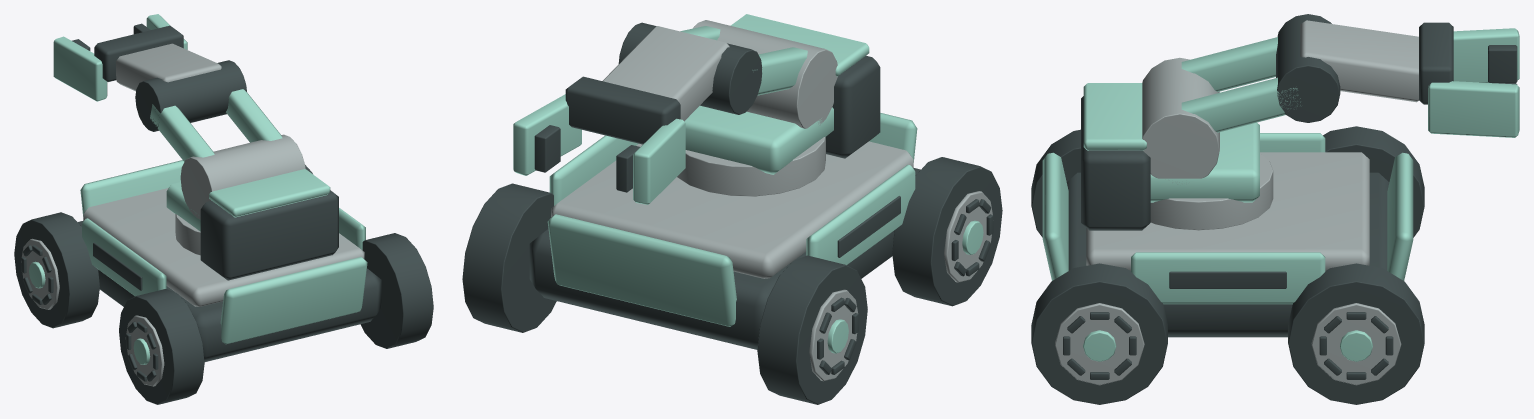
File: engineer-neutral.glb
3 views of the same model, side by side, from view 1: azimuth 30°, elevation 25°; view 2: azimuth 150°, elevation 25°; view 3: azimuth 270°, elevation 25° (orthographic). The views are drawn at different scales.
Parts seen in each view (by area): view 1: engineer-chassis, engineer-armor, engineer-mechanics; view 2: engineer-chassis, engineer-mechanics, engineer-armor; view 3: engineer-chassis, engineer-mechanics, engineer-armor.
Part boxes in pixels (bbox=[...]): engineer-chassis: bbox=[14, 23, 433, 404]; engineer-armor: bbox=[29, 14, 367, 364]; engineer-mechanics: bbox=[21, 43, 364, 386]; engineer-chassis: bbox=[462, 22, 1002, 404]; engineer-mechanics: bbox=[551, 20, 992, 381]; engineer-armor: bbox=[513, 14, 983, 353]; engineer-chassis: bbox=[1031, 14, 1517, 404]; engineer-mechanics: bbox=[1055, 20, 1418, 385]; engineer-armor: bbox=[1042, 28, 1519, 361].
Bounding box in the file's own units: 0.7234 × 0.6021 × 0.914.
